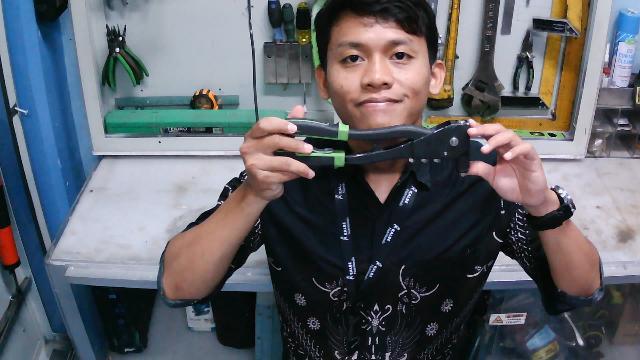tang_rivet: (264, 119, 476, 177)
